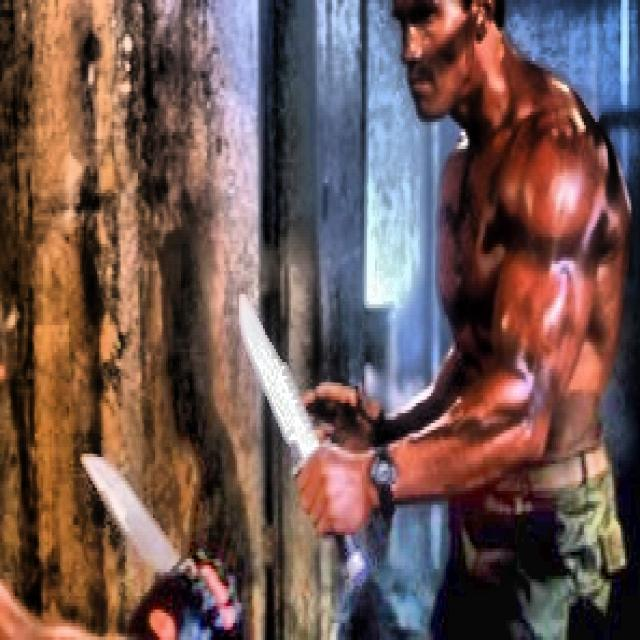knife: (238, 298, 368, 577), (83, 457, 183, 576)
